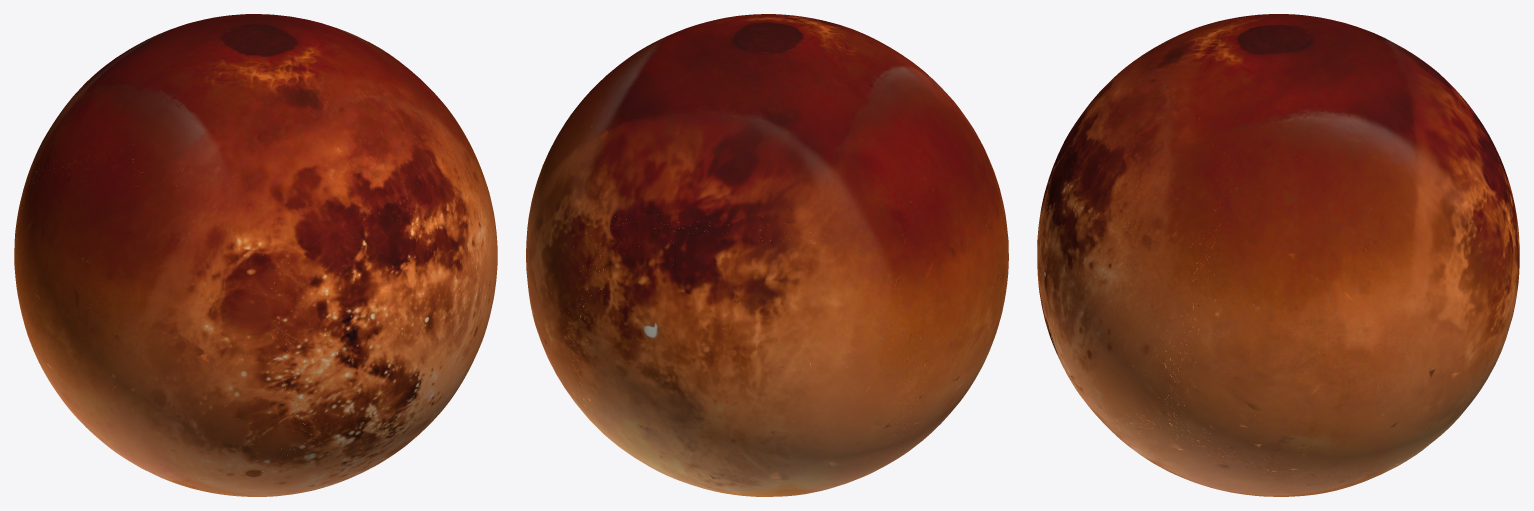
Rendered from RedMoon(Draco).glb.
The picture shows the model from 3 angles, left to right: view 1: azimuth 30°, elevation 25°; view 2: azimuth 150°, elevation 25°; view 3: azimuth 270°, elevation 25°; orthographic projection.
Visible parts, largest first — view 1: Mesh_0; view 2: Mesh_0; view 3: Mesh_0.
Boxes of the visible parts, left/top/right/bottom form: Mesh_0: left=14, top=14, right=497, bottom=496; Mesh_0: left=526, top=14, right=1008, bottom=496; Mesh_0: left=1037, top=14, right=1519, bottom=496.
Bounding box in the file's own units: 2 × 2 × 2.
1 material, 1 textured.
